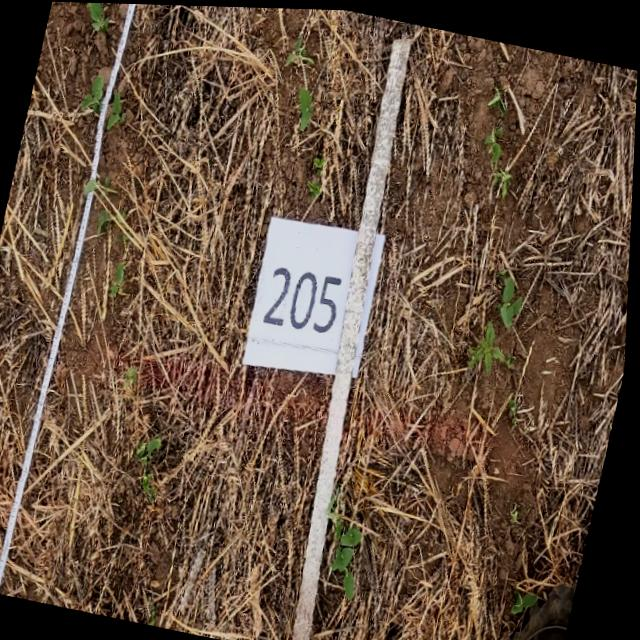caruru_weed: (471, 320, 514, 371)
soy_plant: (336, 515, 367, 597), (484, 124, 514, 194), (138, 436, 166, 501), (501, 273, 525, 324), (81, 74, 105, 112), (308, 155, 327, 198), (285, 36, 314, 63), (299, 85, 315, 129), (107, 91, 125, 128), (516, 588, 543, 611), (88, 2, 109, 30), (110, 262, 127, 296), (98, 208, 112, 233), (126, 366, 140, 388), (85, 179, 99, 193)
